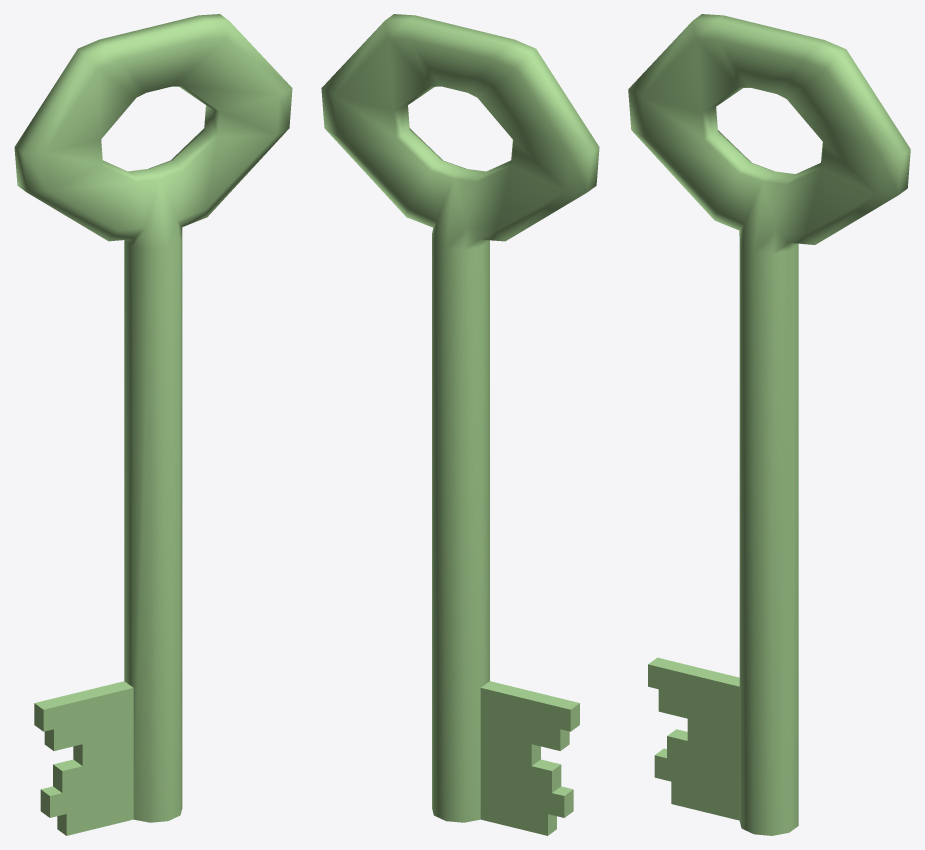
The model's file is Keys_14.FBX.
3 views of the same model, side by side, from view 1: azimuth 30°, elevation 25°; view 2: azimuth 150°, elevation 25°; view 3: azimuth 330°, elevation 25° (orthographic).
Parts seen in each view (by area): view 1: Keys_14; view 2: Keys_14; view 3: Keys_14.
Boxes of the visible parts, box(x1,y1,x2,y2) form: Keys_14: box(14, 14, 292, 835); Keys_14: box(321, 14, 599, 835); Keys_14: box(628, 14, 910, 835).
Bounding box in the file's own units: 1.18 × 3.26 × 0.2251.
